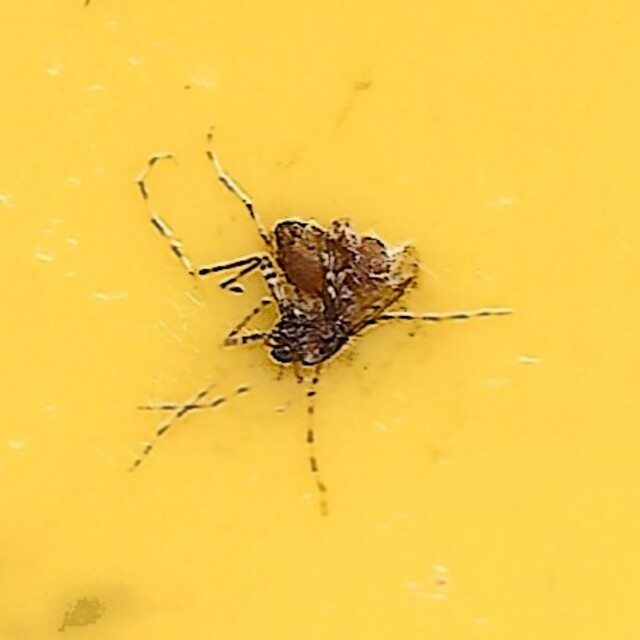Nematocera: (135, 138, 505, 502)
